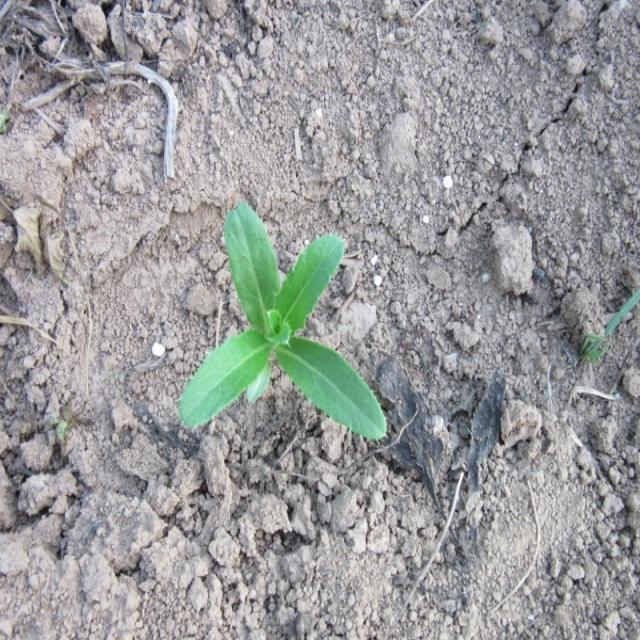cs: (176, 198, 394, 456)
